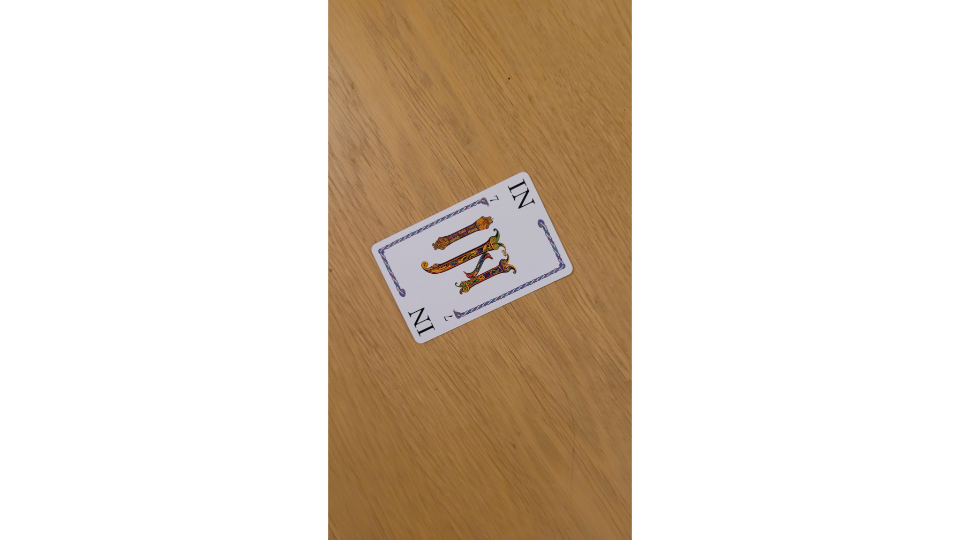IN: (368, 170, 577, 347)
